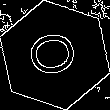O_E: (25, 29, 85, 81)
